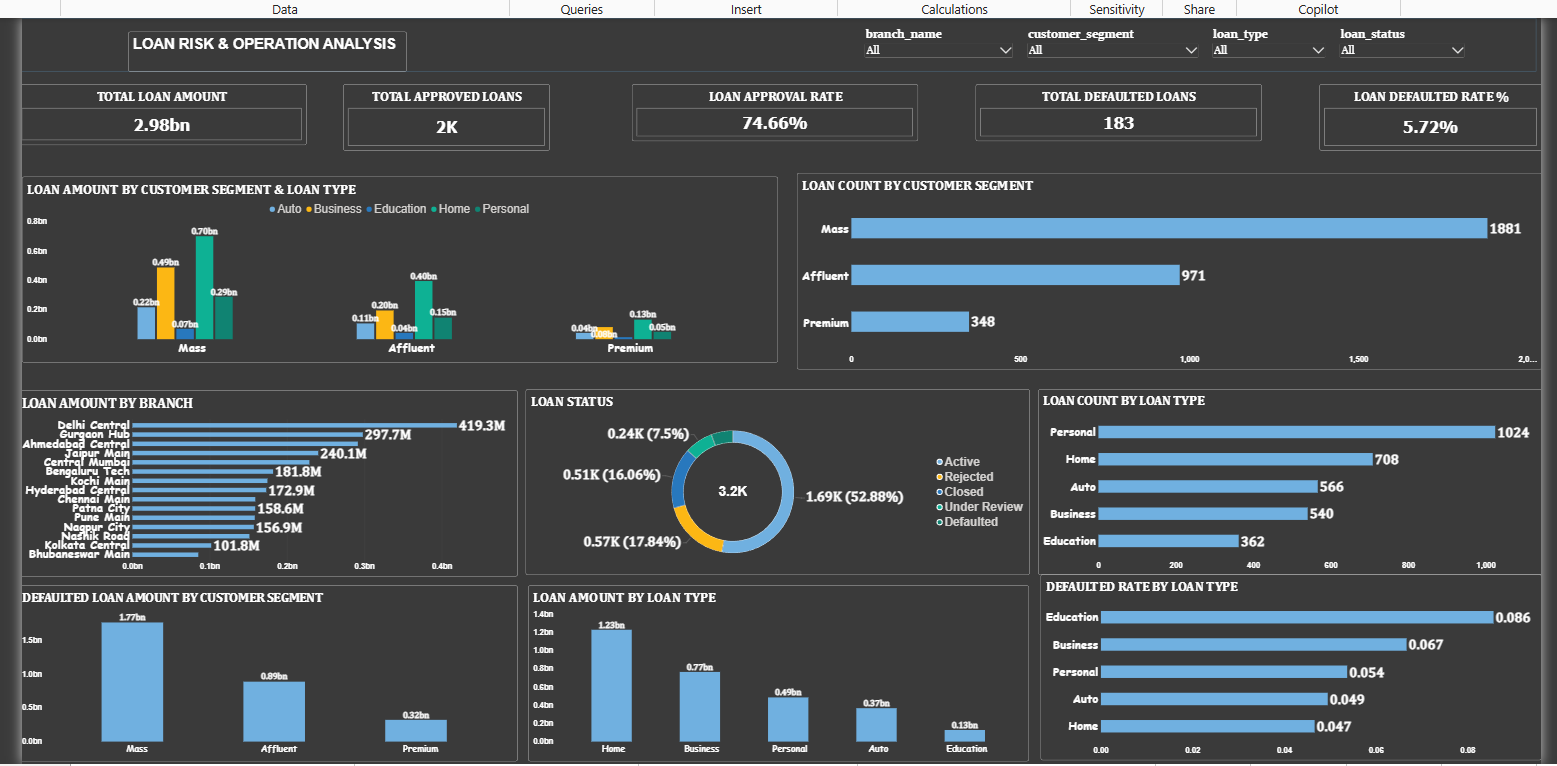

What the dashboard file says about the page in this screenshot:
{"tool":"powerbi","page":{"name":"LOAN RISK & OPERATION ANALYSIS","canvas":[5500,2700],"ordinal":3},"visuals":[{"type":"shape","box":[-20,0,5499,193.6],"z":0},{"type":"textbox","box":[384,48,1008,144],"z":1000},{"type":"cardVisual","title":"TOTAL APPROVED LOANS","fields":{"Data":["public accounts.total approved loans"]},"box":[1158.8,240,747.4,240],"z":2000,"group":"g1"},{"type":"slicer","fields":{"Values":["public loans.loan_type"]},"box":[4303.7,31.7,419.8,158.4],"z":3000},{"type":"cardVisual","title":"LOAN APPROVAL RATE","fields":{"Data":["public accounts.loan approval rate %"]},"box":[2206.6,240,1034.8,205.7],"z":3000,"group":"g1"},{"type":"slicer","fields":{"Values":["public loans.loan_status"]},"box":[4765.4,31.7,461.7,158.4],"z":4000},{"type":"cardVisual","title":"TOTAL DEFAULTED LOANS","fields":{"Data":["public accounts.total defaulted loans"]},"box":[3450.9,240,1034.8,205.7],"z":4000,"group":"g1"},{"type":"slicer","fields":{"Values":["public customers.customer_segment"]},"box":[3632,31.7,629.7,126.7],"z":5000},{"type":"cardVisual","title":"LOAN DEFAULTED RATE %","fields":{"Data":["public accounts.loan default rate %"]},"box":[4695.1,240,804.9,240],"z":5000,"group":"g1"},{"type":"slicer","fields":{"Values":["public branches.branch_name"]},"box":[3044.3,31.7,545.7,158.4],"z":6000},{"type":"cardVisual","title":"TOTAL LOAN AMOUNT","fields":{"Data":["public accounts.total loan amount"]},"box":[-20,240,1047.8,220],"z":7000,"group":"g1"},{"type":"clusteredColumnChart","title":"DEFAULTED LOAN AMOUNT BY CUSTOMER SEGMENT","fields":{"Category":["public customers.customer_segment"],"Y":["Sum(public loans.loan_amount)"]},"box":[-20,2052.2,1811.9,635.8],"z":7000},{"type":"clusteredBarChart","title":"LOAN AMOUNT BY BRANCH","fields":{"Category":["public branches.branch_name"],"Y":["public accounts.total loan amount"]},"box":[-20,1346.3,1811.9,673.2],"z":8000},{"type":"clusteredBarChart","title":"LOAN COUNT BY CUSTOMER SEGMENT","fields":{"Category":["public customers.customer_segment"],"Y":["Count(public loans.loan_id)"]},"box":[2803.2,561,2696.8,710.6],"z":9000},{"type":"clusteredBarChart","title":"LOAN COUNT BY LOAN TYPE","fields":{"Y":["CountNonNull(public loans.loan_id)"],"Category":["public loans.loan_type"]},"box":[3676,1344,1824,672],"z":10000},{"type":"clusteredColumnChart","title":"LOAN AMOUNT BY LOAN TYPE","fields":{"Category":["public loans.loan_type"],"Y":["public accounts.total loan amount"]},"box":[1834,2052.2,1811.9,635.8],"z":11000},{"type":"clusteredColumnChart","title":"LOAN AMOUNT BY CUSTOMER SEGMENT & LOAN TYPE","fields":{"Category":["public customers.customer_segment"],"Y":["public accounts.total loan amount"],"Series":["public loans.loan_type"]},"box":[0,576,2736,672],"z":12000},{"type":"donutChart","title":"LOAN STATUS","fields":{"Category":["public loans.loan_status"],"Y":["CountNonNull(public loans.loan_id)"]},"box":[1824,1344,1824,672],"z":13000},{"type":"clusteredBarChart","title":"DEFAULTED RATE BY LOAN TYPE","fields":{"Category":["public loans.loan_type"],"Y":["public accounts.loan default rate %"]},"box":[3688.1,2014.8,1811.9,673.2],"z":14000},{"type":"group","id":"g1","title":"Group 1","box":[-20,240,5520,240],"z":15000}]}

Visuals, with their boxes on the page's 5500x2700 design canvas (x1, y1, x2, y2). These are canvas units, not pixel positions in the 1557x766 screenshot, which may show the page scaled, cropped or inside an application window:
shape: (-20, 0, 5479, 194)
textbox: (384, 48, 1392, 192)
"TOTAL APPROVED LOANS" cardVisual: (1159, 240, 1906, 480)
slicer - public loans.loan_type: (4304, 32, 4724, 190)
"LOAN APPROVAL RATE" cardVisual: (2207, 240, 3241, 446)
slicer - public loans.loan_status: (4765, 32, 5227, 190)
"TOTAL DEFAULTED LOANS" cardVisual: (3451, 240, 4486, 446)
slicer - public customers.customer_segment: (3632, 32, 4262, 158)
"LOAN DEFAULTED RATE %" cardVisual: (4695, 240, 5500, 480)
slicer - public branches.branch_name: (3044, 32, 3590, 190)
"TOTAL LOAN AMOUNT" cardVisual: (-20, 240, 1028, 460)
"DEFAULTED LOAN AMOUNT BY CUSTOMER SEGMENT" clusteredColumnChart: (-20, 2052, 1792, 2688)
"LOAN AMOUNT BY BRANCH" clusteredBarChart: (-20, 1346, 1792, 2020)
"LOAN COUNT BY CUSTOMER SEGMENT" clusteredBarChart: (2803, 561, 5500, 1272)
"LOAN COUNT BY LOAN TYPE" clusteredBarChart: (3676, 1344, 5500, 2016)
"LOAN AMOUNT BY LOAN TYPE" clusteredColumnChart: (1834, 2052, 3646, 2688)
"LOAN AMOUNT BY CUSTOMER SEGMENT & LOAN TYPE" clusteredColumnChart: (0, 576, 2736, 1248)
"LOAN STATUS" donutChart: (1824, 1344, 3648, 2016)
"DEFAULTED RATE BY LOAN TYPE" clusteredBarChart: (3688, 2015, 5500, 2688)
"Group 1" group: (-20, 240, 5500, 480)
